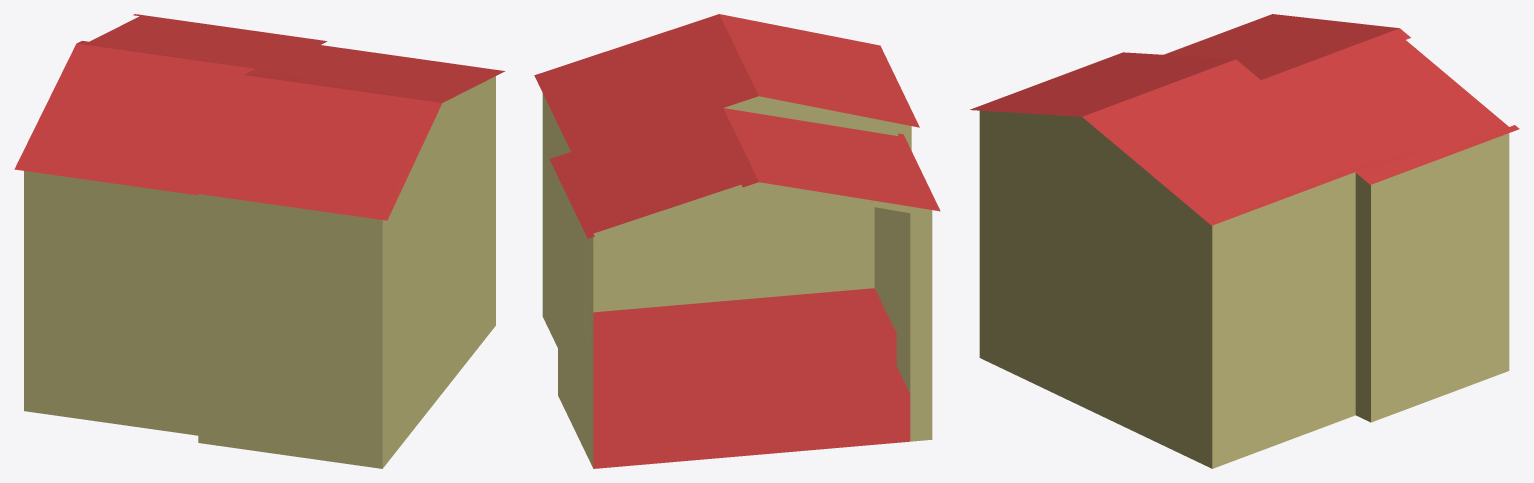
The picture shows the model from 3 angles, left to right: view 1: azimuth 30°, elevation 25°; view 2: azimuth 150°, elevation 25°; view 3: azimuth 270°, elevation 25°; orthographic projection. The views are drawn at different scales.
Size of the model in its own units: 17.46 by 18.45 by 10.89.
